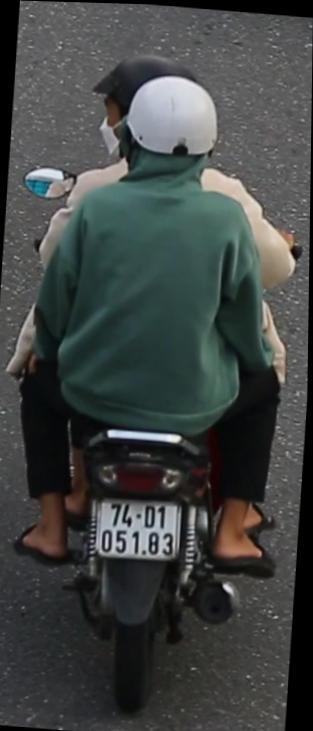LP: (90, 488, 187, 569)
helmet: (123, 63, 226, 197)
